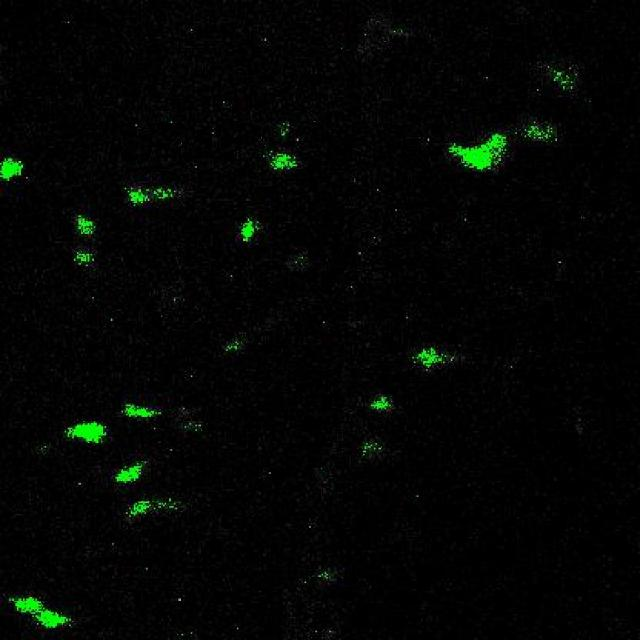Cell: (12, 594, 68, 631), (450, 140, 508, 170), (71, 420, 105, 446), (0, 156, 24, 180), (417, 348, 446, 367), (116, 465, 139, 486), (75, 214, 98, 234), (124, 402, 150, 418), (239, 221, 256, 245)
